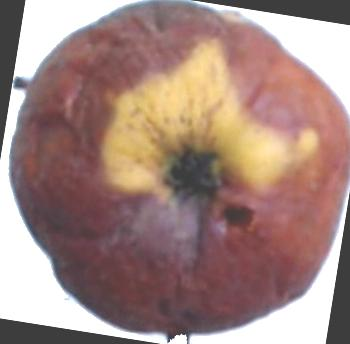Apple Overripe: (0, 0, 350, 337)
